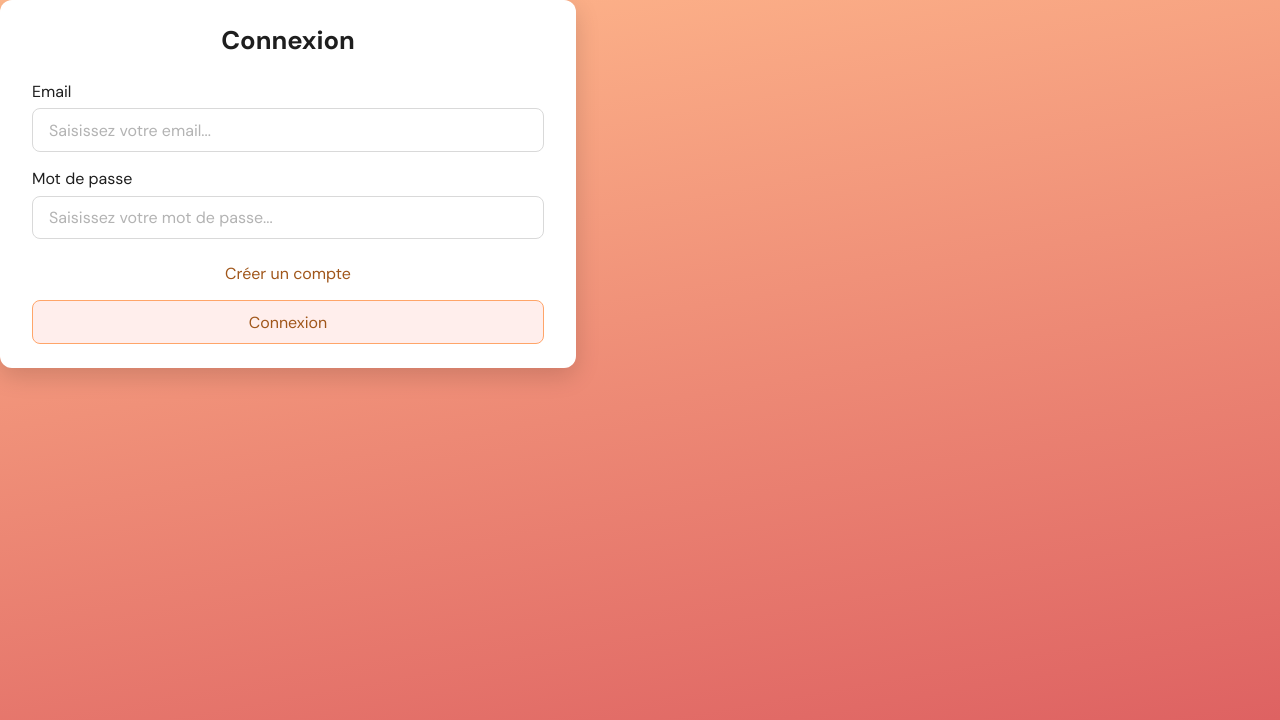
Test case: Page Connexion › efface le message d’un champ dès qu’on le corrige
The image size is (1280, 720).
Click the button "Connexion" at (288, 322), box [32, 300, 544, 344]
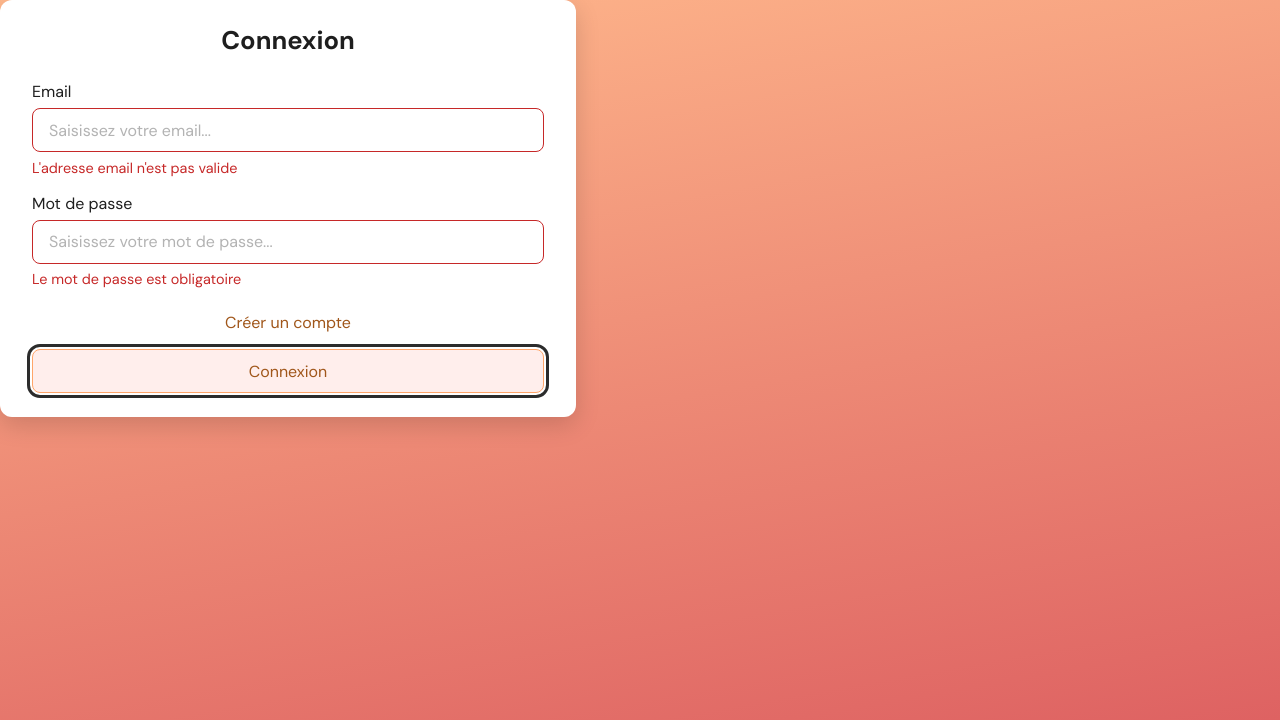
Type "c" into the field labelled "Email" at (288, 130), box [32, 108, 544, 152]
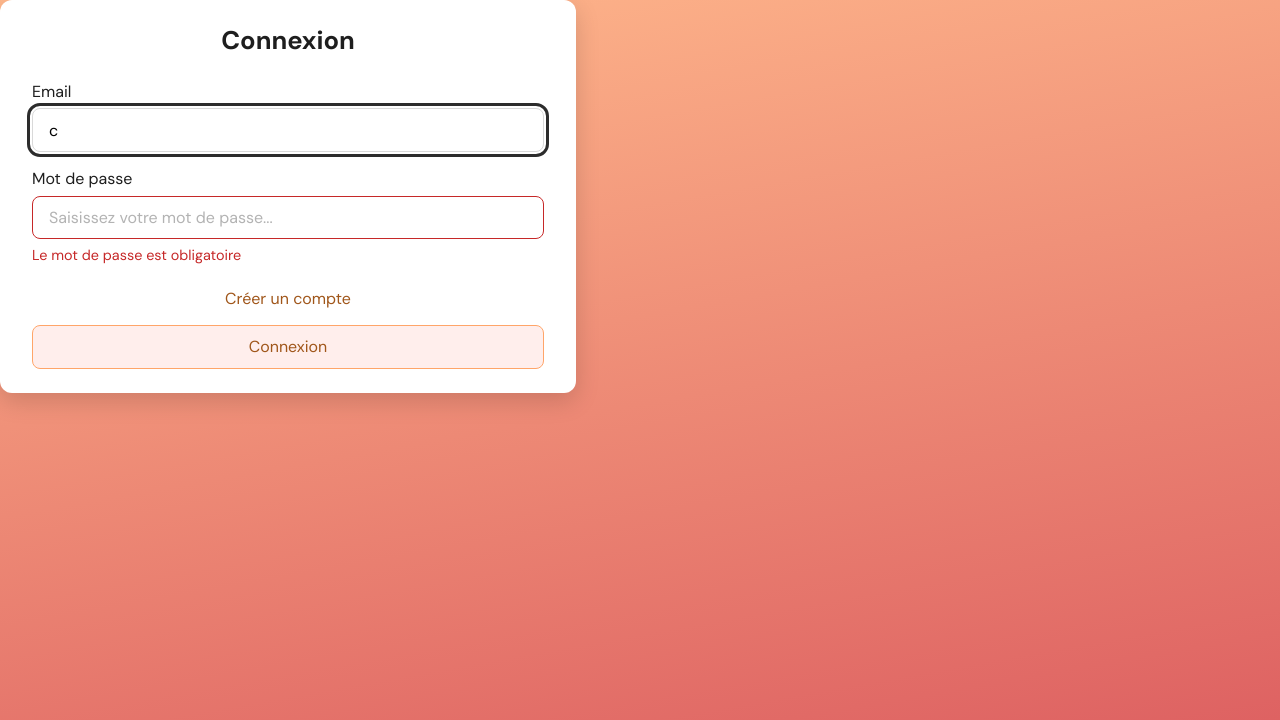
expect the text "Le mot de passe est obligatoire" is shown: met, box [32, 246, 241, 264]
expect the text "L'adresse email n'est pas valide" is gone: met
